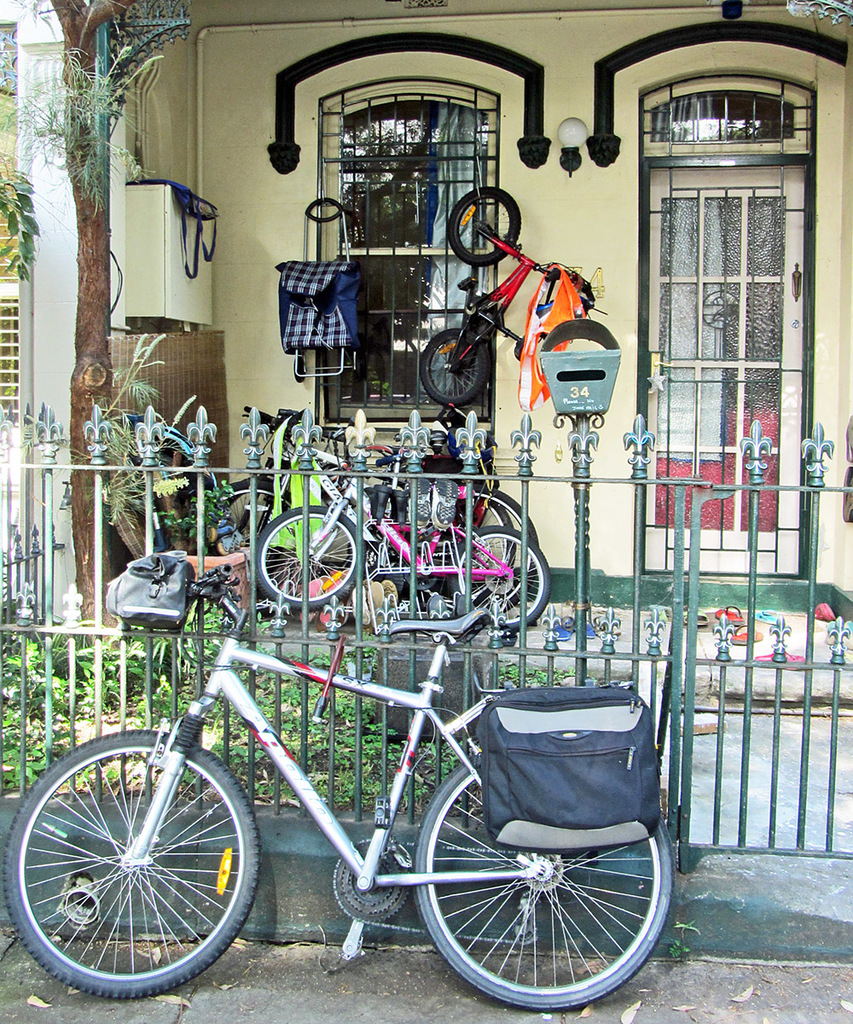Bike: (16, 565, 560, 1024)
